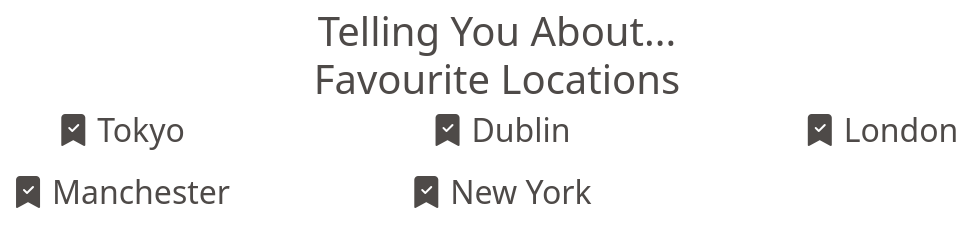
Scenario: Favourites component test suite › functional tests › should show a fave-no-fill element after the a button is clicked
Click the button without text next to "Tokyo". click: (73, 130)
box: [49,111,97,149]
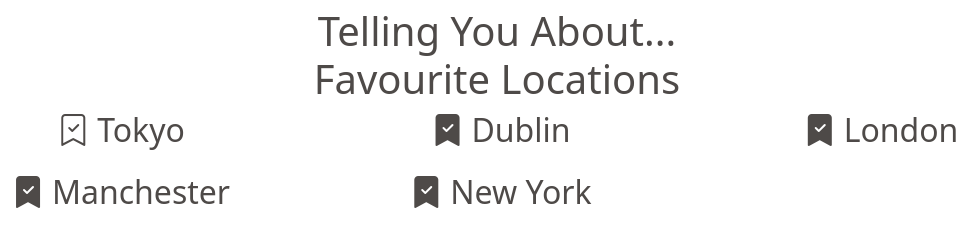
Expected: the button with test id "fave-no-fill" is shown, [49,111,97,149]
